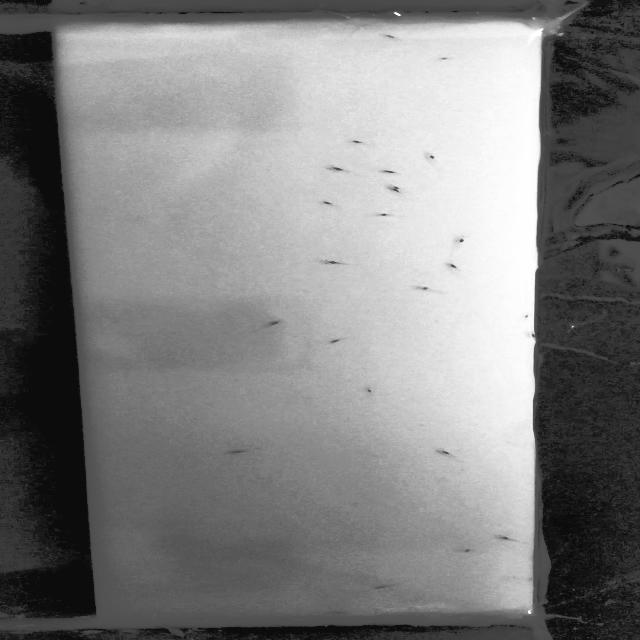shrimp: (348, 134, 370, 154), (324, 163, 355, 175), (312, 197, 338, 211), (493, 532, 519, 546), (318, 258, 352, 268), (358, 381, 378, 397), (424, 151, 446, 165), (456, 233, 474, 250), (378, 167, 399, 180), (264, 317, 285, 330), (324, 334, 345, 347), (329, 606, 350, 619), (454, 545, 478, 556), (386, 182, 408, 193), (388, 183, 405, 196), (414, 284, 436, 294), (443, 260, 463, 270), (373, 582, 393, 592), (376, 209, 392, 221), (435, 52, 449, 63), (439, 446, 453, 457), (227, 449, 247, 456)
